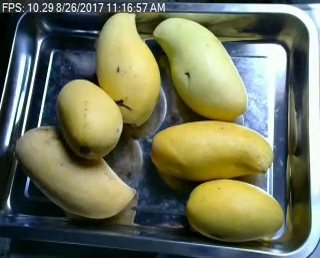Mango: (16, 127, 135, 218), (153, 17, 245, 120), (151, 120, 273, 182), (97, 12, 160, 126), (185, 179, 284, 242), (55, 78, 124, 159)
